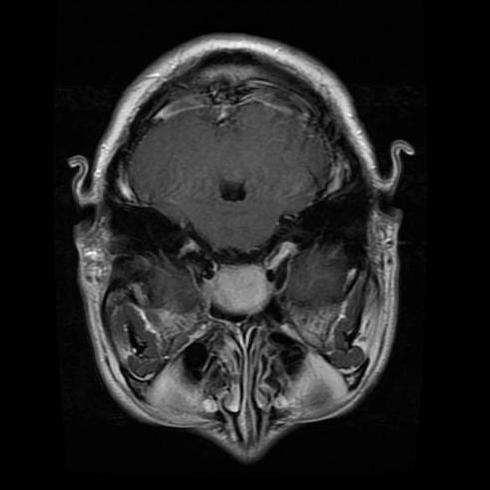Tumour-Pituitary: (207, 261, 275, 313)
